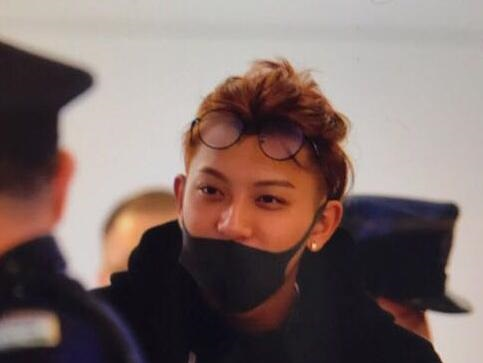face_mask: (181, 134, 298, 310)
